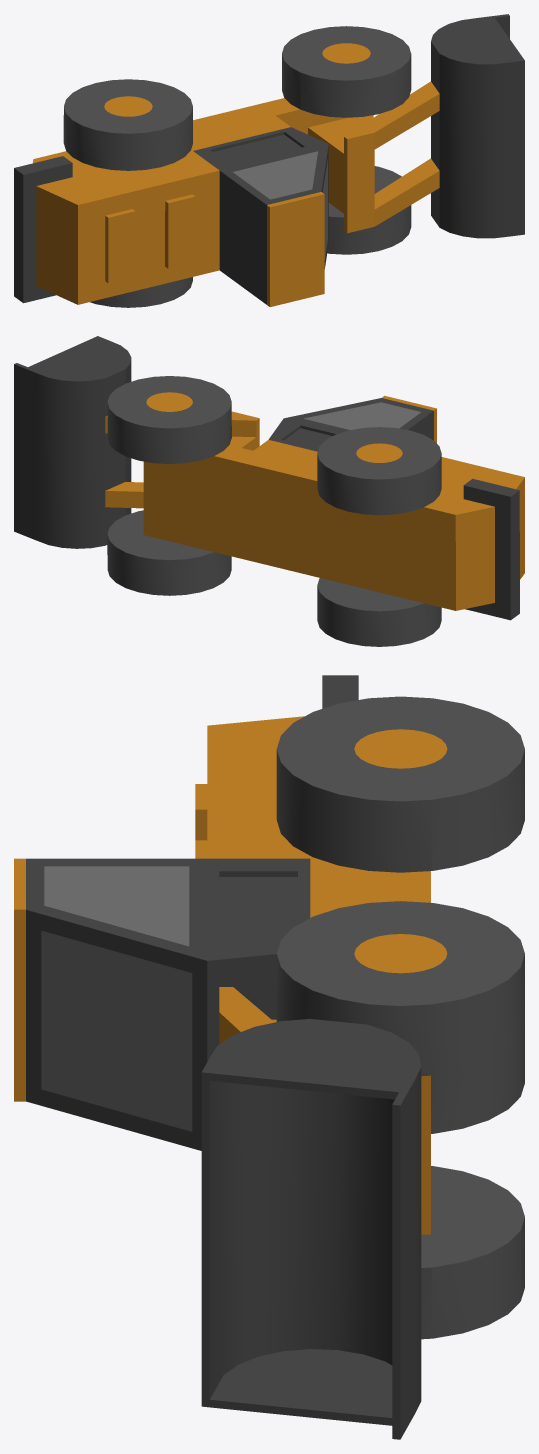
The model's file is tractor_2.dae.
The picture shows the model from 3 angles, top to bottom: view 1: azimuth 30°, elevation 25°; view 2: azimuth 150°, elevation 25°; view 3: azimuth 270°, elevation 25°; orthographic projection. The views are drawn at different scales.
Visible parts, largest first — view 1: coords_ME_ID3_MA___auto_6, coords_ME_ID19_MA___auto_, coords_ME_ID11_MA_material, coords_ME_ID33_MA_material, coords_ME_ID75_MA___auto_, coords_ME_ID45_MA___auto_6, coords_ME_ID69_MA___auto_, coords_ME_ID39_MA_material, coords_ME_ID125_MA___auto_51, coords_ME_ID27_MA___auto_6, coords_ME_ID101_MA___auto_6, coords_ME_ID63_MA___auto_ (+4 smaller); view 2: coords_ME_ID3_MA___auto_6, coords_ME_ID19_MA___auto_, coords_ME_ID33_MA_material, coords_ME_ID11_MA_material, coords_ME_ID39_MA_material, coords_ME_ID51_MA_material, coords_ME_ID69_MA___auto_, coords_ME_ID75_MA___auto_, coords_ME_ID125_MA___auto_51, coords_ME_ID113_MA___auto_6, coords_ME_ID107_MA___auto_6, coords_ME_ID63_MA___auto_; view 3: coords_ME_ID19_MA___auto_, coords_ME_ID33_MA_material, coords_ME_ID11_MA_material, coords_ME_ID87_MA___auto_51, coords_ME_ID75_MA___auto_, coords_ME_ID3_MA___auto_6, coords_ME_ID39_MA_material, coords_ME_ID125_MA___auto_51, coords_ME_ID51_MA_material, coords_ME_ID63_MA___auto_, coords_ME_ID45_MA___auto_6, coords_ME_ID107_MA___auto_6 (+2 smaller).
Part boxes in pixels (left/top/right/bottom): coords_ME_ID3_MA___auto_6: left=33, top=81, right=439, bottom=304; coords_ME_ID19_MA___auto_: left=431, top=14, right=524, bottom=238; coords_ME_ID11_MA_material: left=282, top=26, right=411, bottom=117; coords_ME_ID33_MA_material: left=63, top=79, right=192, bottom=170; coords_ME_ID75_MA___auto_: left=193, top=127, right=328, bottom=304; coords_ME_ID45_MA___auto_6: left=267, top=192, right=324, bottom=306; coords_ME_ID69_MA___auto_: left=14, top=156, right=72, bottom=303; coords_ME_ID39_MA_material: left=327, top=166, right=411, bottom=254; coords_ME_ID125_MA___auto_51: left=233, top=151, right=317, bottom=199; coords_ME_ID27_MA___auto_6: left=165, top=194, right=195, bottom=268; coords_ME_ID101_MA___auto_6: left=105, top=209, right=135, bottom=283; coords_ME_ID63_MA___auto_: left=210, top=132, right=304, bottom=164; coords_ME_ID3_MA___auto_6: left=105, top=411, right=524, bottom=610; coords_ME_ID19_MA___auto_: left=14, top=336, right=131, bottom=548; coords_ME_ID33_MA_material: left=317, top=427, right=441, bottom=515; coords_ME_ID11_MA_material: left=107, top=376, right=231, bottom=463; coords_ME_ID39_MA_material: left=107, top=510, right=231, bottom=595; coords_ME_ID51_MA_material: left=317, top=578, right=441, bottom=646; coords_ME_ID69_MA___auto_: left=463, top=478, right=519, bottom=620; coords_ME_ID75_MA___auto_: left=268, top=398, right=433, bottom=451; coords_ME_ID125_MA___auto_51: left=303, top=402, right=421, bottom=429; coords_ME_ID113_MA___auto_6: left=146, top=392, right=192, bottom=411; coords_ME_ID107_MA___auto_6: left=356, top=443, right=402, bottom=462; coords_ME_ID63_MA___auto_: left=281, top=425, right=336, bottom=448; coords_ME_ID19_MA___auto_: left=201, top=1019, right=421, bottom=1439; coords_ME_ID33_MA_material: left=276, top=696, right=524, bottom=872; coords_ME_ID11_MA_material: left=276, top=901, right=524, bottom=1076; coords_ME_ID87_MA___auto_51: left=41, top=930, right=192, bottom=1131; coords_ME_ID75_MA___auto_: left=26, top=858, right=310, bottom=1150; coords_ME_ID3_MA___auto_6: left=207, top=716, right=430, bottom=1234; coords_ME_ID39_MA_material: left=421, top=1166, right=524, bottom=1339; coords_ME_ID125_MA___auto_51: left=44, top=866, right=189, bottom=946; coords_ME_ID51_MA_material: left=431, top=1025, right=524, bottom=1133; coords_ME_ID63_MA___auto_: left=219, top=871, right=297, bottom=941; coords_ME_ID45_MA___auto_6: left=14, top=858, right=25, bottom=1101; coords_ME_ID107_MA___auto_6: left=354, top=729, right=447, bottom=768.
Bounding box in the file's own units: 68.28 × 22.49 × 31.12.
